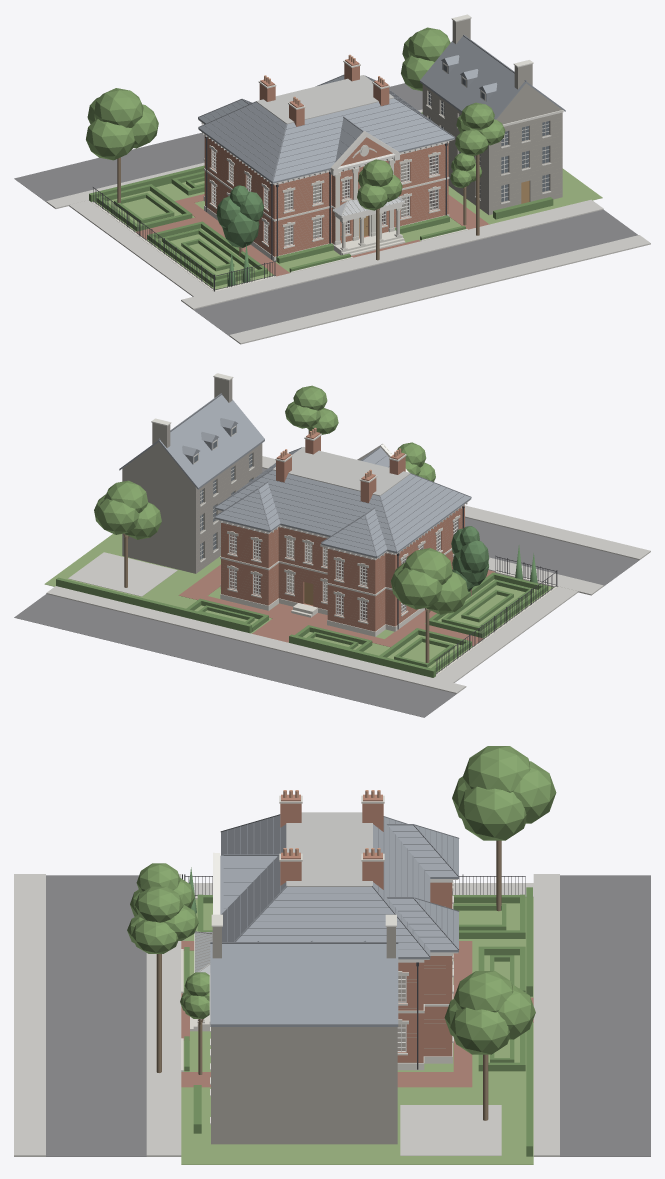
File: clay-halifax-georgian-colonial-clay-v002.glb
The picture shows the model from 3 angles, top to bottom: view 1: azimuth 30°, elevation 25°; view 2: azimuth 150°, elevation 25°; view 3: azimuth 270°, elevation 25°; orthographic projection. The views are drawn at different scales.
Parts seen in each view (by area): view 1: CLAY_ASPHALT, CLAY_ROOF, CLAY_CONCRETE, CLAY_WALL, CLAY_PLANTING, CLAY_NEIGHBOUR, CLAY_HEDGE, CLAY_LAWN, CLAY_STONE, CLAY_TRIM, CLAY_LEAD, CLAY_CONIFER (+8 smaller); view 2: CLAY_ASPHALT, CLAY_ROOF, CLAY_WALL, CLAY_CONCRETE, CLAY_NEIGHBOUR, CLAY_HEDGE, CLAY_PLANTING, CLAY_LAWN, CLAY_PAVING, CLAY_STONE, CLAY_COURSE, CLAY_LEAD (+7 smaller); view 3: CLAY_ASPHALT, CLAY_ROOF, CLAY_CONCRETE, CLAY_NEIGHBOUR, CLAY_PLANTING, CLAY_LAWN, CLAY_WALL, CLAY_HEDGE, CLAY_LEAD, CLAY_COURSE, CLAY_PAVING, CLAY_STONE (+4 smaller).
Part boxes in pixels (left/top/right/bottom): CLAY_ASPHALT: left=14, top=83, right=638, bottom=335; CLAY_ROOF: left=198, top=36, right=565, bottom=183; CLAY_CONCRETE: left=46, top=109, right=650, bottom=344; CLAY_WALL: left=204, top=59, right=448, bottom=256; CLAY_PLANTING: left=86, top=27, right=505, bottom=210; CLAY_NEIGHBOUR: left=422, top=18, right=562, bottom=214; CLAY_HEDGE: left=89, top=112, right=553, bottom=286; CLAY_LAWN: left=95, top=168, right=602, bottom=289; CLAY_STONE: left=91, top=60, right=468, bottom=291; CLAY_TRIM: left=199, top=120, right=454, bottom=246; CLAY_LEAD: left=256, top=75, right=404, bottom=215; CLAY_CONIFER: left=216, top=185, right=263, bottom=285; CLAY_ASPHALT: left=14, top=468, right=639, bottom=717; CLAY_ROOF: left=119, top=395, right=471, bottom=558; CLAY_WALL: left=221, top=432, right=464, bottom=631; CLAY_CONCRETE: left=46, top=456, right=650, bottom=693; CLAY_NEIGHBOUR: left=122, top=377, right=262, bottom=573; CLAY_HEDGE: left=56, top=572, right=547, bottom=677; CLAY_PLANTING: left=94, top=385, right=468, bottom=614; CLAY_LAWN: left=44, top=534, right=553, bottom=672; CLAY_PAVING: left=179, top=564, right=494, bottom=647; CLAY_STONE: left=220, top=433, right=557, bottom=675; CLAY_COURSE: left=158, top=393, right=471, bottom=556; CLAY_LEAD: left=273, top=447, right=410, bottom=495; CLAY_ASPHALT: left=46, top=875, right=650, bottom=1156; CLAY_ROOF: left=210, top=815, right=458, bottom=1026; CLAY_CONCRETE: left=14, top=874, right=559, bottom=1156; CLAY_NEIGHBOUR: left=211, top=927, right=397, bottom=1144; CLAY_PLANTING: left=127, top=746, right=556, bottom=1054; CLAY_LAWN: left=181, top=897, right=533, bottom=1164; CLAY_WALL: left=280, top=794, right=452, bottom=1062; CLAY_HEDGE: left=184, top=887, right=532, bottom=1156; CLAY_LEAD: left=195, top=812, right=372, bottom=972; CLAY_COURSE: left=210, top=814, right=459, bottom=956; CLAY_PAVING: left=181, top=941, right=533, bottom=1087; CLAY_STONE: left=181, top=795, right=453, bottom=1071.
Size of the model in its own units: 51.4 by 16.5 by 47.82.
